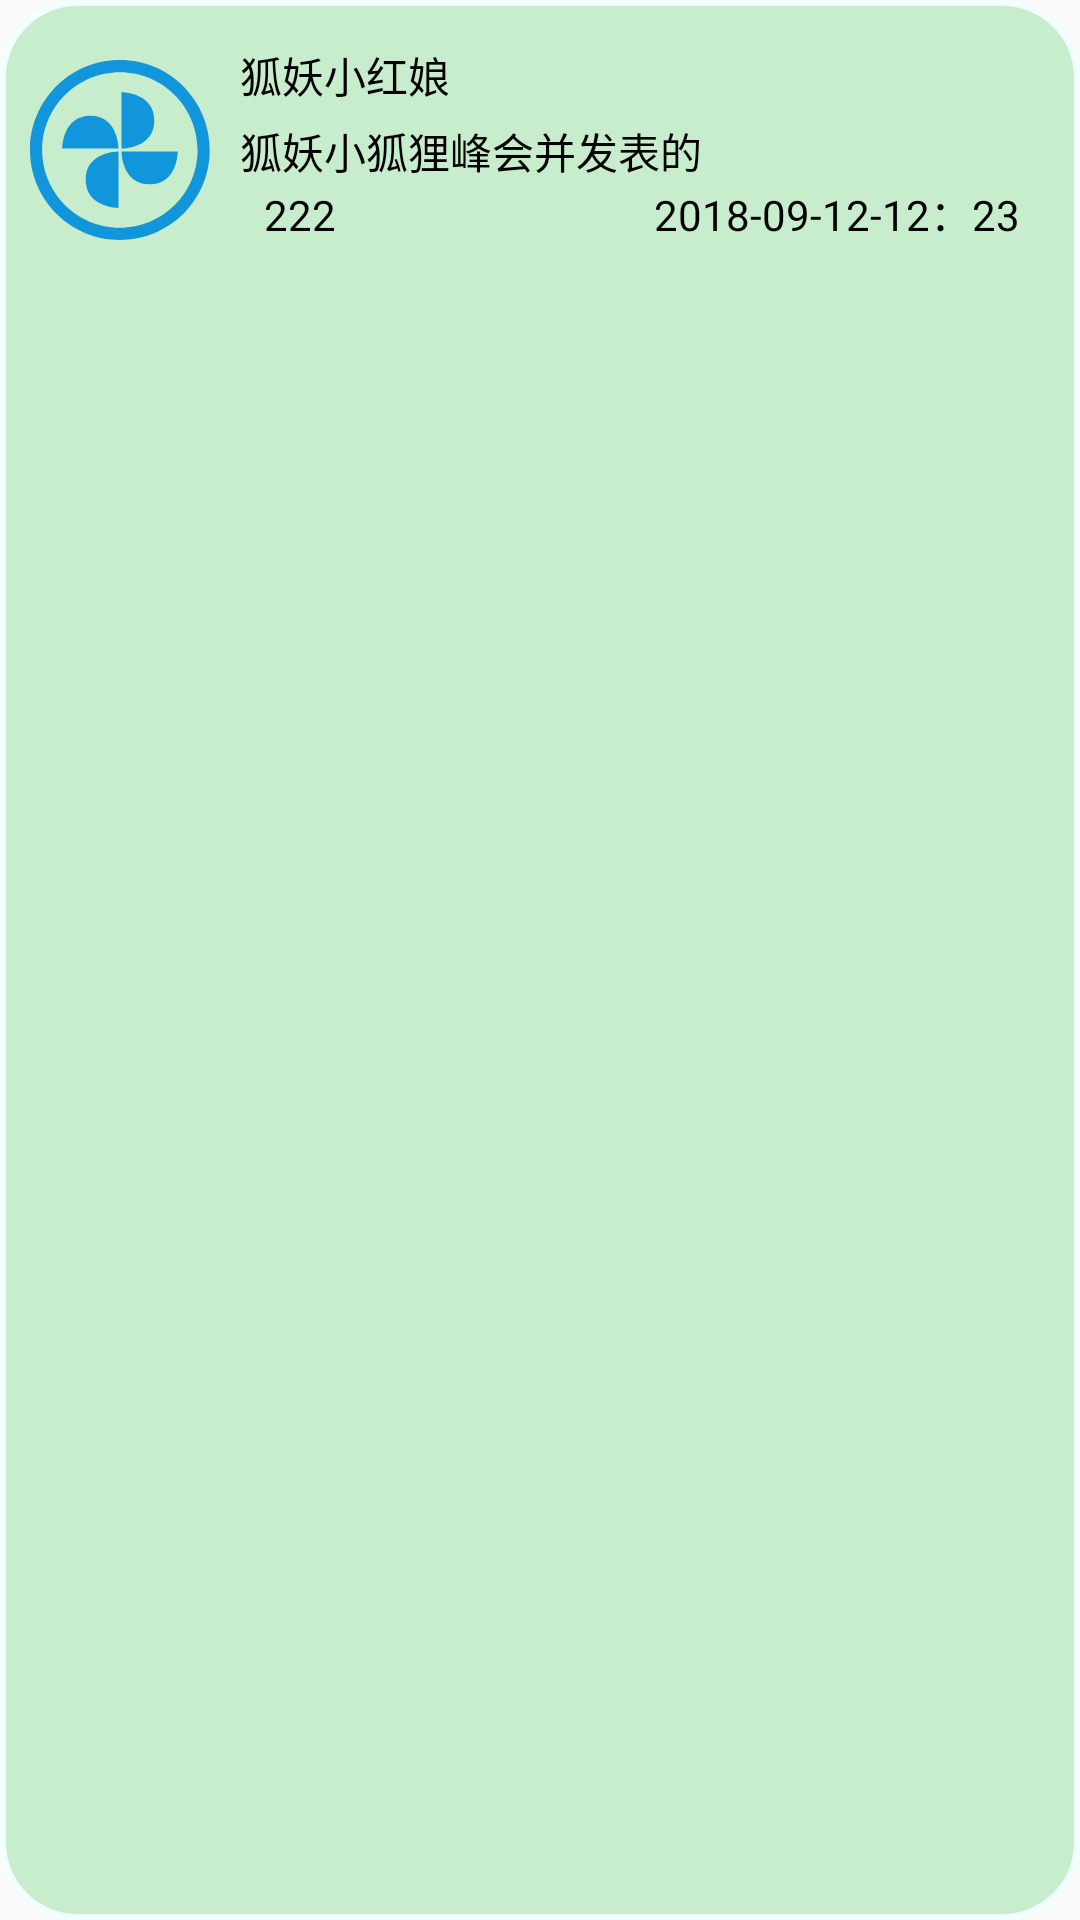

Locate icon controls on the screen. Image size 1080×1920, boxes as bbox=[x1, y1, x2, y2].
loading: bbox=[30, 60, 210, 240]
